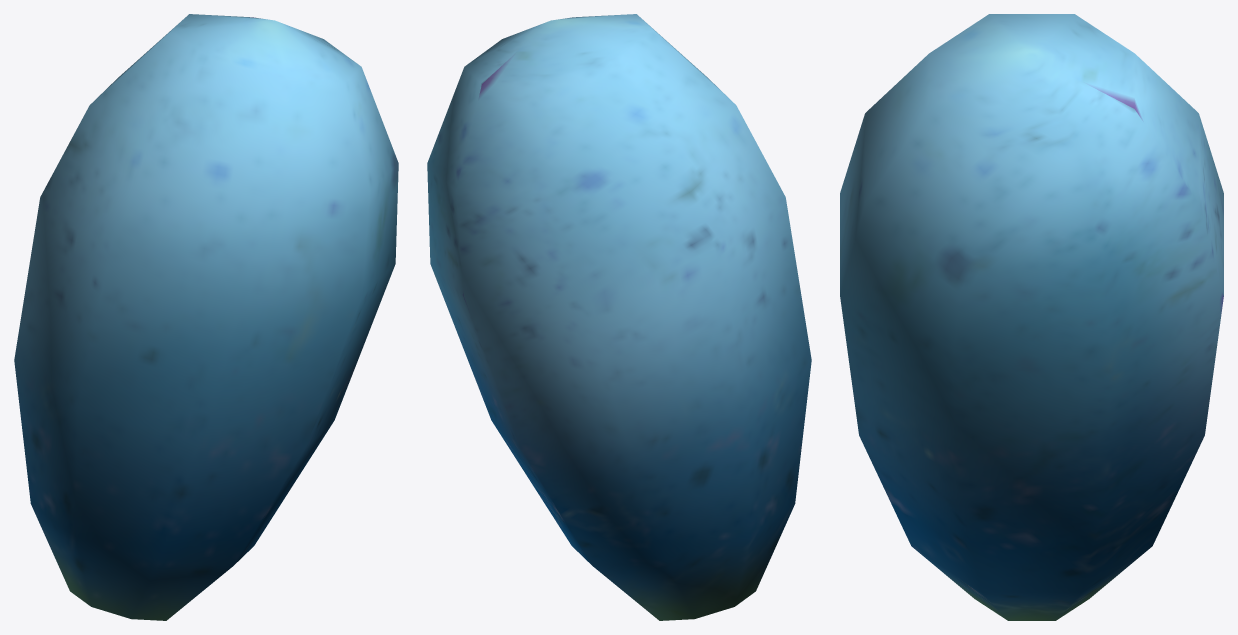
The model's file is Sce_Aquarium_Hawaii01_SeaAnemone15_a.FBX.
The picture shows the model from 3 angles, left to right: view 1: azimuth 30°, elevation 25°; view 2: azimuth 150°, elevation 25°; view 3: azimuth 270°, elevation 25°; orthographic projection. The views are drawn at different scales.
Parts seen in each view (by area): view 1: Sce_Aquarium_Hawaii01_SeaAnemone15_a; view 2: Sce_Aquarium_Hawaii01_SeaAnemone15_a; view 3: Sce_Aquarium_Hawaii01_SeaAnemone15_a.
Boxes of the visible parts, x1,y1,x2,y2 form: Sce_Aquarium_Hawaii01_SeaAnemone15_a: (14,14,398,620); Sce_Aquarium_Hawaii01_SeaAnemone15_a: (427,14,811,620); Sce_Aquarium_Hawaii01_SeaAnemone15_a: (840,14,1223,620).
Size of the model in its own units: 0.3397 by 0.5613 by 0.3123.
